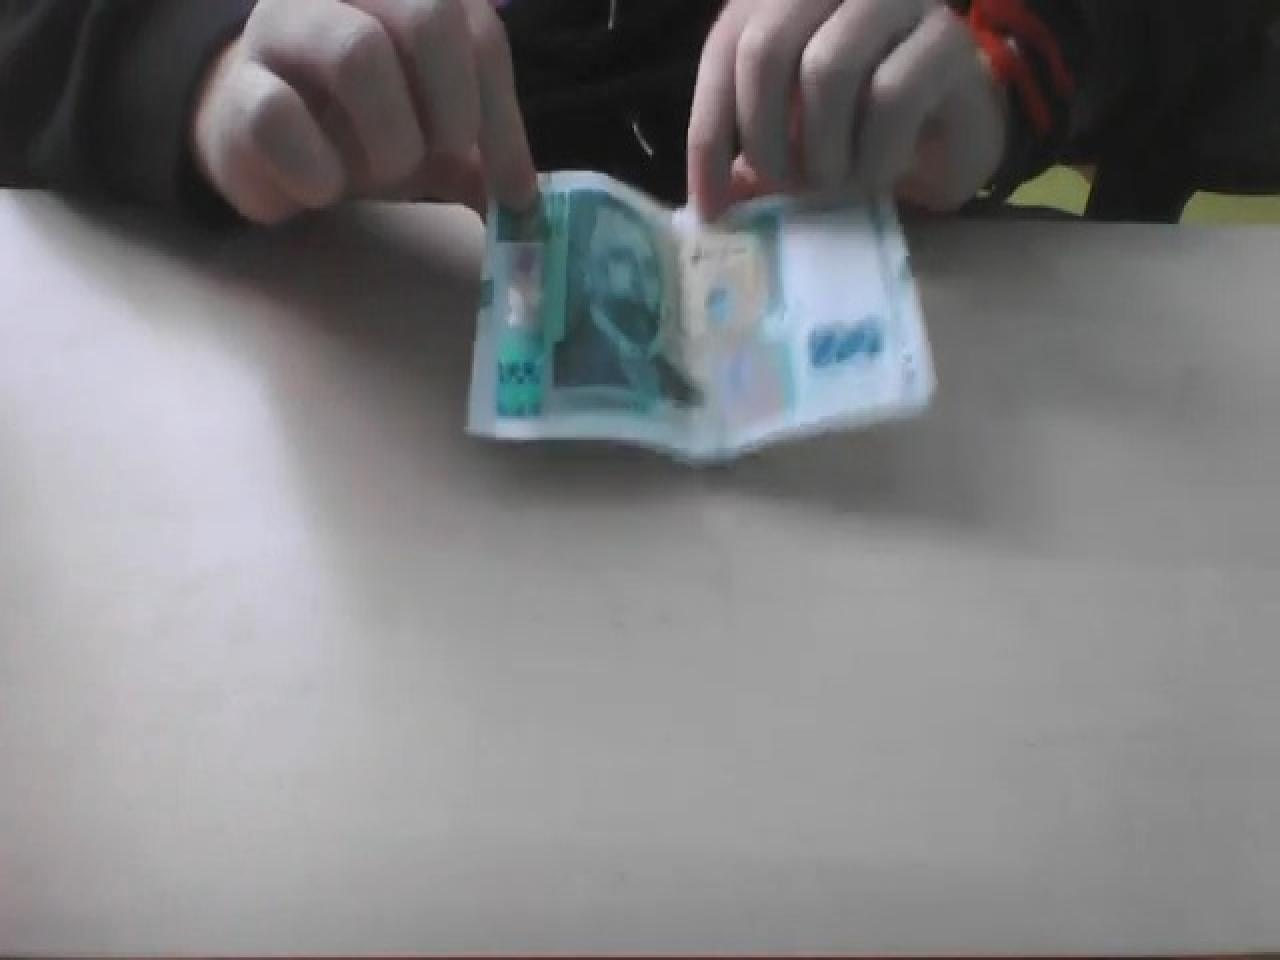100leva: (464, 11, 1008, 472)
